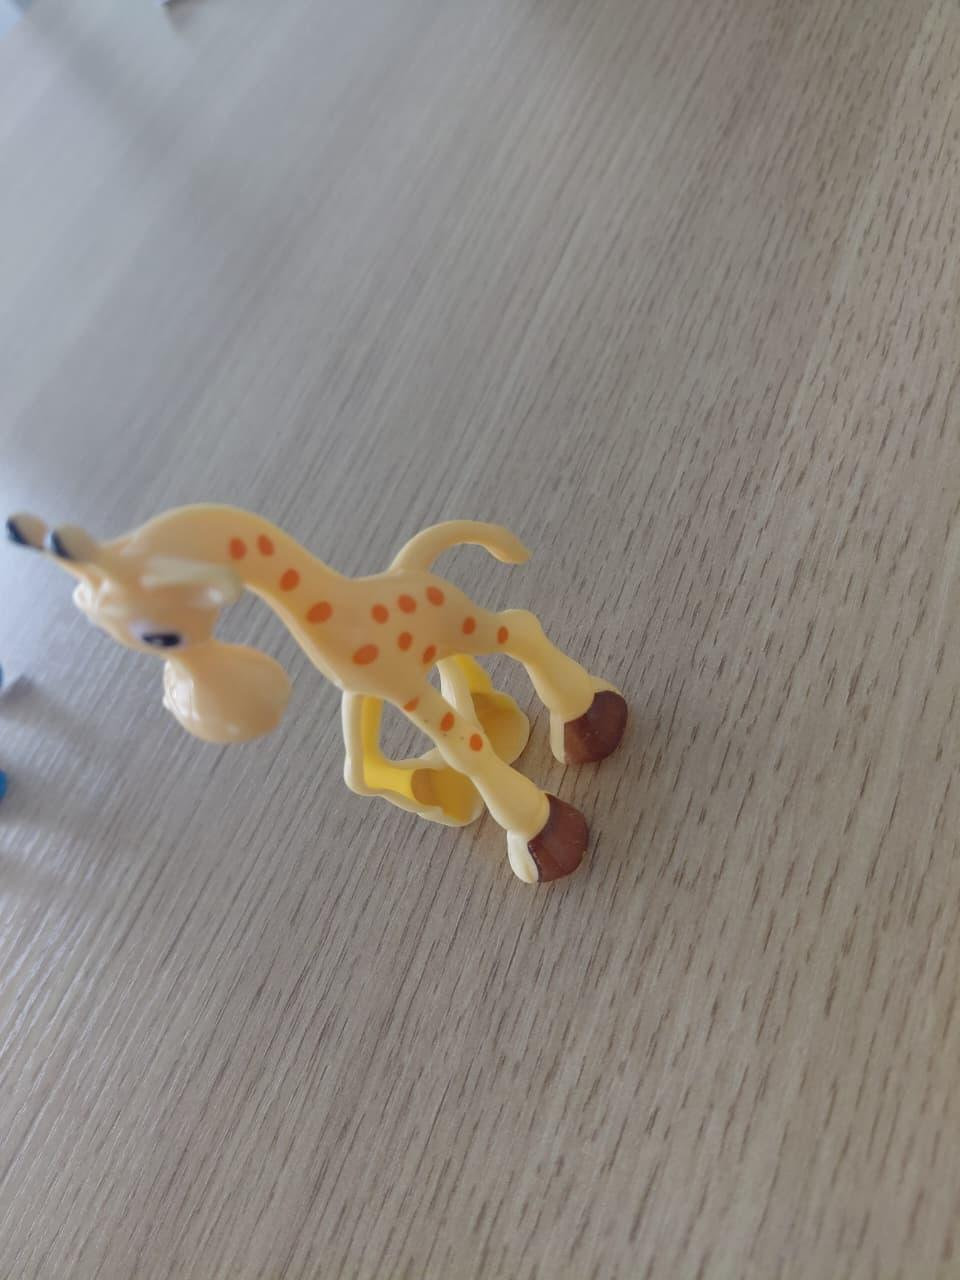giraffe: (5, 471, 730, 915)
